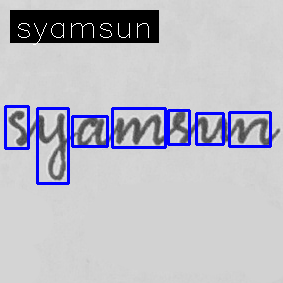a: (74, 113, 107, 151)
m: (112, 112, 163, 148)
n: (234, 113, 272, 147)
s: (169, 106, 192, 148), (6, 108, 29, 149)
u: (196, 113, 230, 147)
y: (33, 111, 69, 183)
